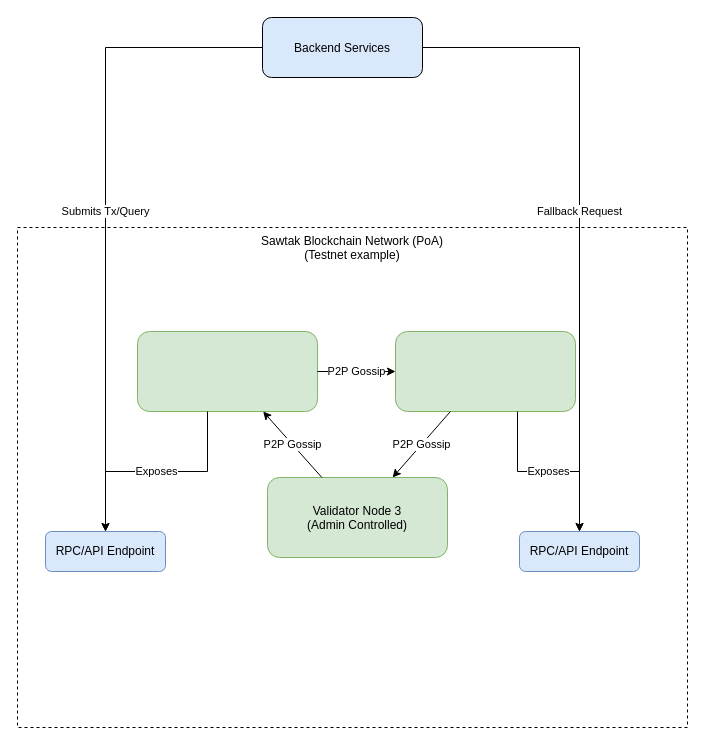
Image size: 705x745. Some labels were removed from this diagram. Here are the shapes that lost their labels. From the top down, the centre of each, then its label:
At [227,371]: "Validator Node 1 (Admin Controlled)".
At [485,371]: "Validator Node 2 (Admin Controlled)".
